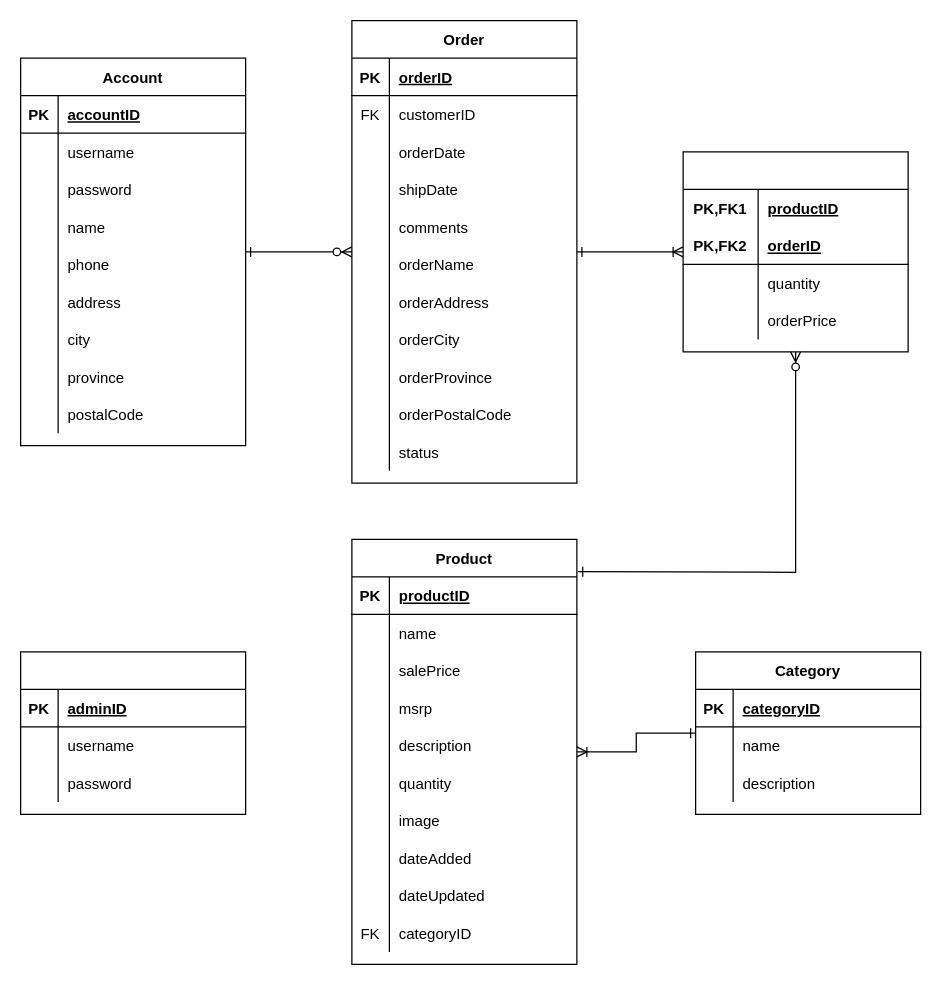
This 941x985 diagram has some shape labels left out. The shapes that lost their labels are listed below. From the top down, each one's box as (x1, y1, x2, y2) in pixels, then its label:
(682, 151, 908, 352): ProductOrder
(19, 651, 246, 814): Administrator
